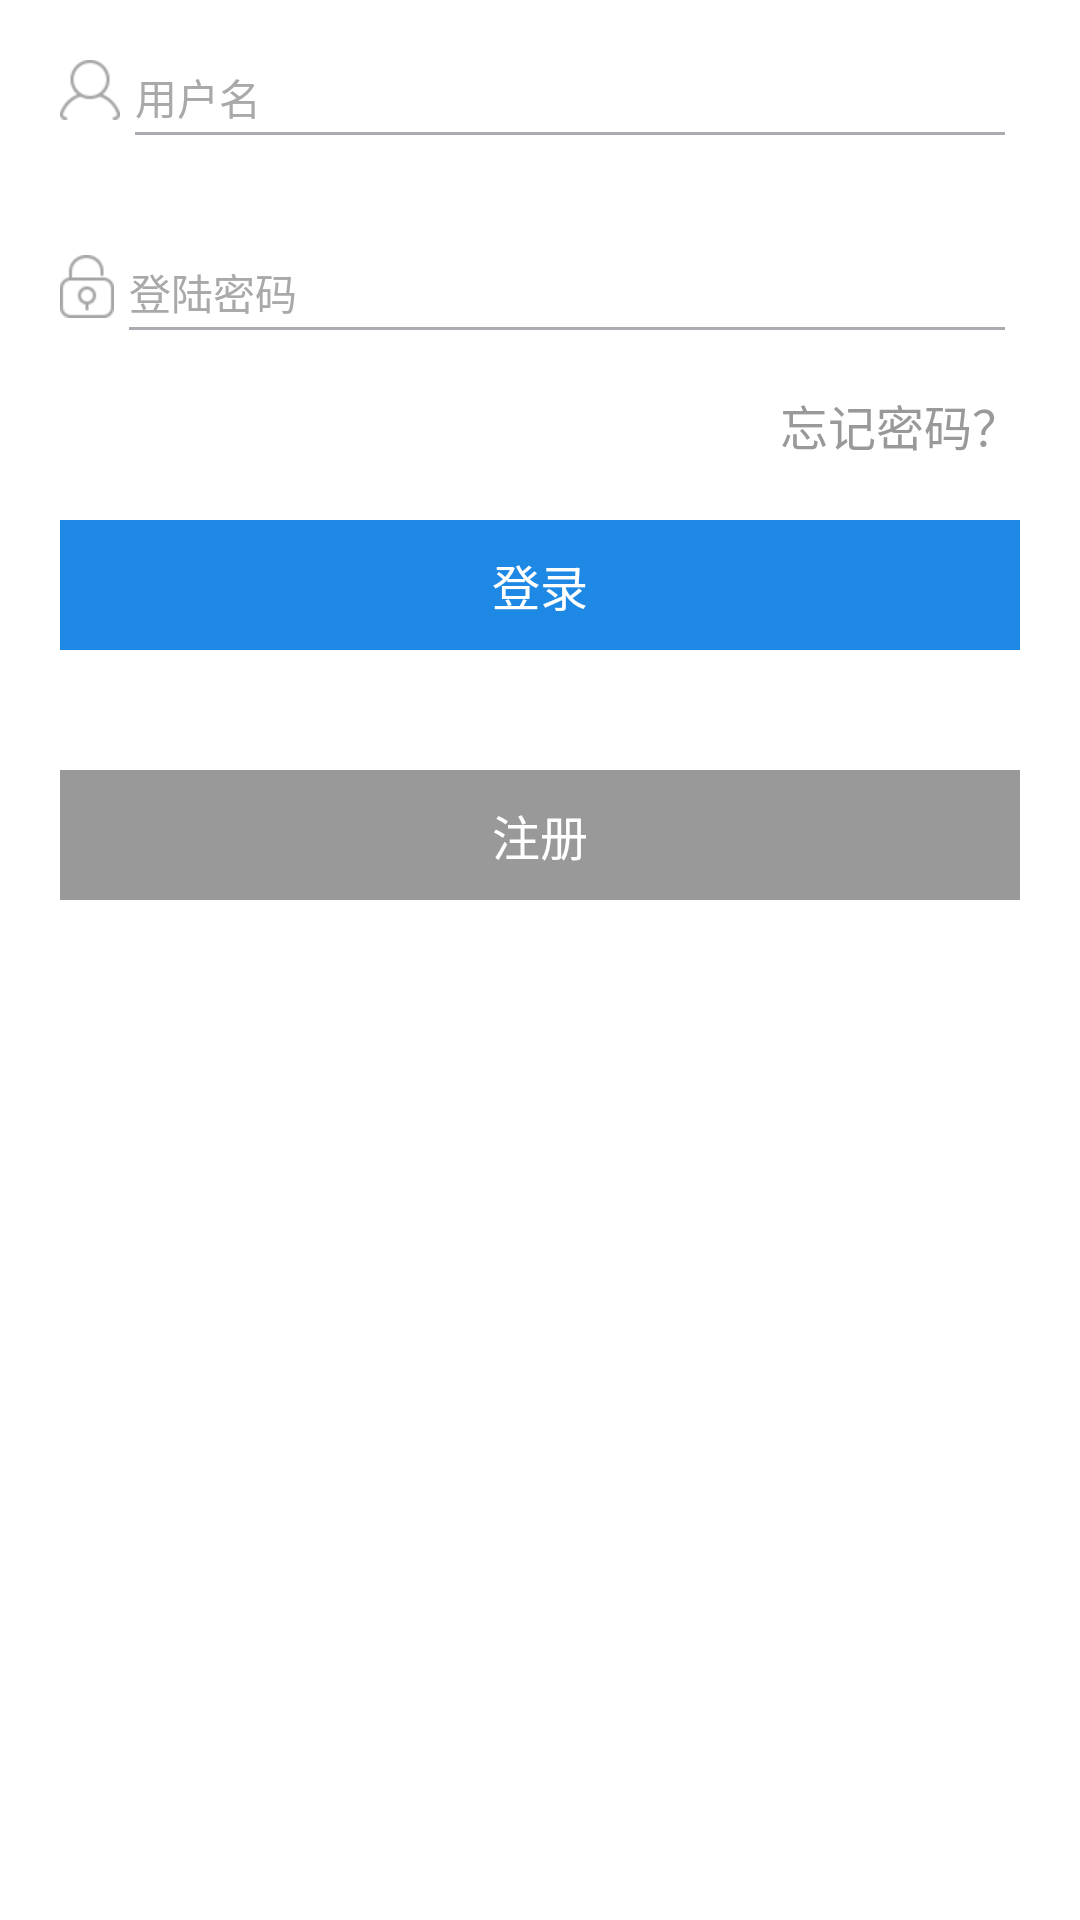

Icons on this 1080x1920 Android screen, each with its box as box(x1, y1, x2, y2):
account: box(60, 60, 120, 120)
password: box(60, 255, 114, 318)
